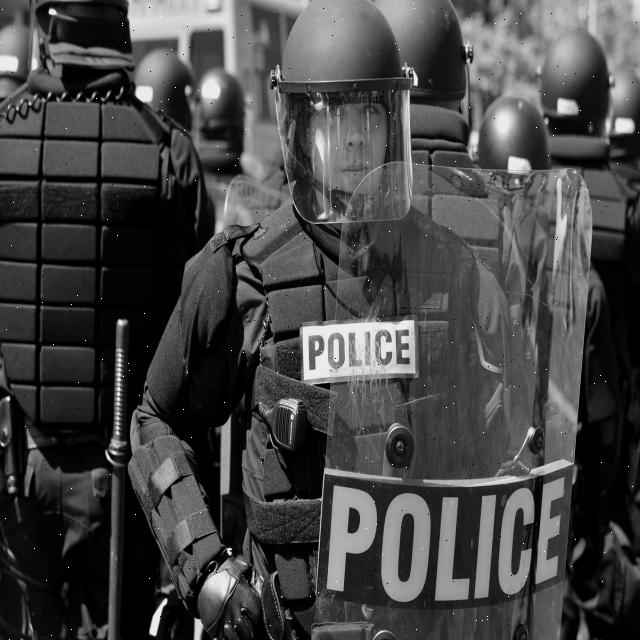police: (136, 0, 501, 640)
